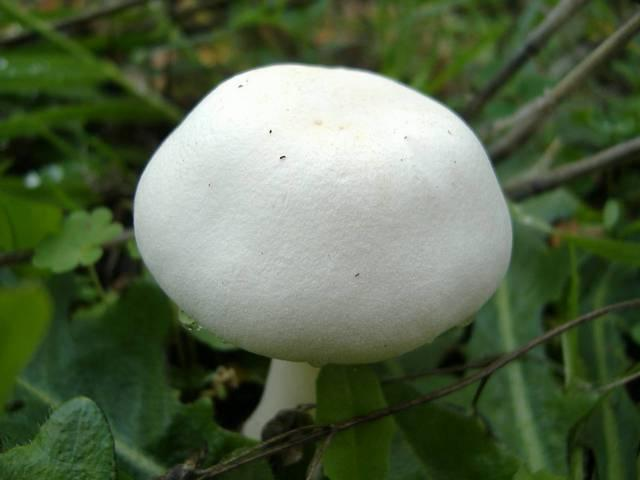Non-edible Mushroom: (131, 61, 514, 447)
